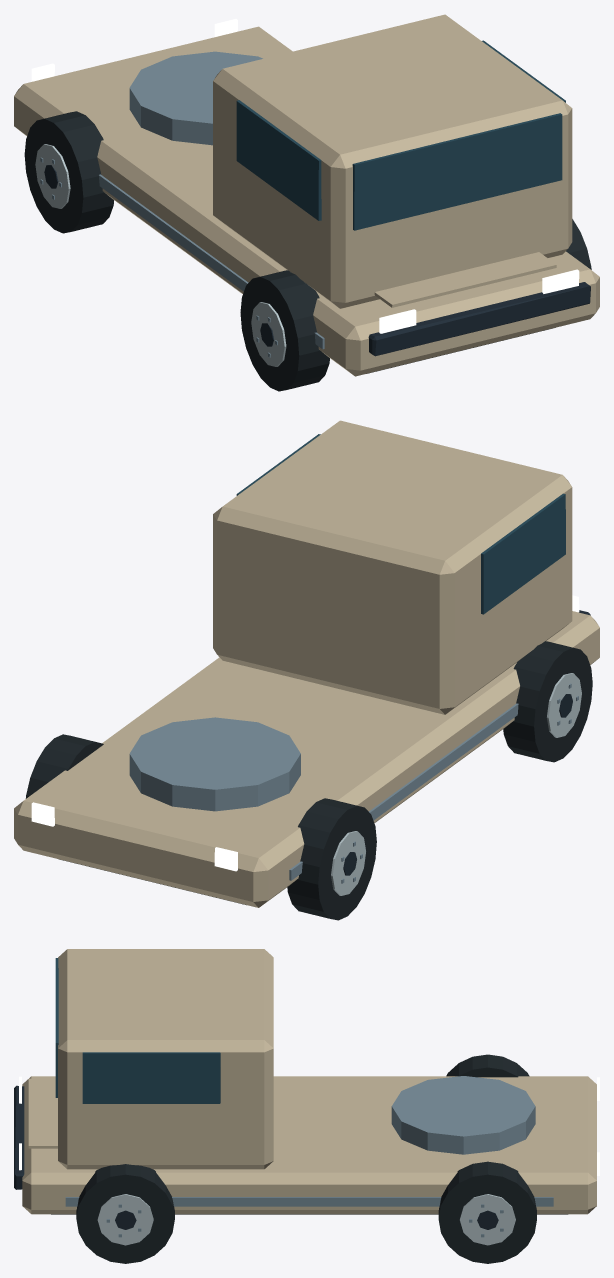
Rendered from road-tractor-truck.lod1.glb.
3 views of the same model, one above another, from view 1: azimuth 30°, elevation 25°; view 2: azimuth 150°, elevation 25°; view 3: azimuth 270°, elevation 25° (orthographic). The views are drawn at different scales.
Parts seen in each view (by area): view 1: road-tractor-truck__body, road-tractor-truck__wheel_steer_1_l, road-tractor-truck__wheel_steer_0_l, road-tractor-truck__wheel_steer_0_r; view 2: road-tractor-truck__body, road-tractor-truck__wheel_steer_1_l, road-tractor-truck__wheel_steer_0_l, road-tractor-truck__wheel_steer_1_r; view 3: road-tractor-truck__body, road-tractor-truck__wheel_steer_1_r, road-tractor-truck__wheel_steer_0_r, road-tractor-truck__wheel_steer_1_l.
Boxes of the visible parts, left/top/right/bottom form: road-tractor-truck__body: left=14, top=14, right=599, bottom=376; road-tractor-truck__wheel_steer_1_l: left=24, top=111, right=113, bottom=233; road-tractor-truck__wheel_steer_0_l: left=240, top=270, right=329, bottom=391; road-tractor-truck__wheel_steer_0_r: left=566, top=219, right=591, bottom=269; road-tractor-truck__body: left=14, top=420, right=599, bottom=907; road-tractor-truck__wheel_steer_1_l: left=287, top=798, right=376, bottom=920; road-tractor-truck__wheel_steer_0_l: left=503, top=641, right=592, bottom=762; road-tractor-truck__wheel_steer_1_r: left=25, top=734, right=103, bottom=798; road-tractor-truck__body: left=14, top=949, right=599, bottom=1214; road-tractor-truck__wheel_steer_1_r: left=438, top=1161, right=536, bottom=1263; road-tractor-truck__wheel_steer_0_r: left=76, top=1164, right=174, bottom=1263; road-tractor-truck__wheel_steer_1_l: left=446, top=1054, right=529, bottom=1077.
Size of the model in its own units: 2.85 by 2.25 by 5.71.
